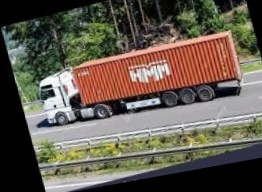truck: (32, 25, 250, 140)
